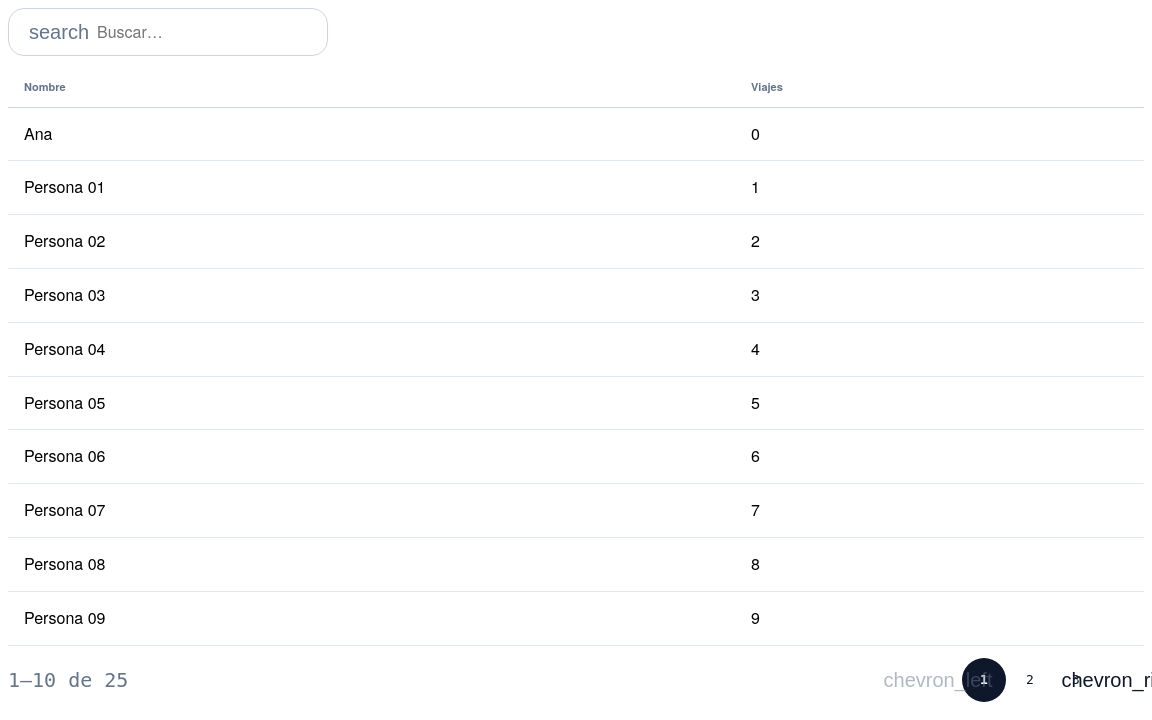
Test: DataTable · conformance canon › dtb-2: ordenar descendente trae la última fila del conjunto, no de la página
Click the button "Viajes" at (767, 88), box [751,80,783,95]
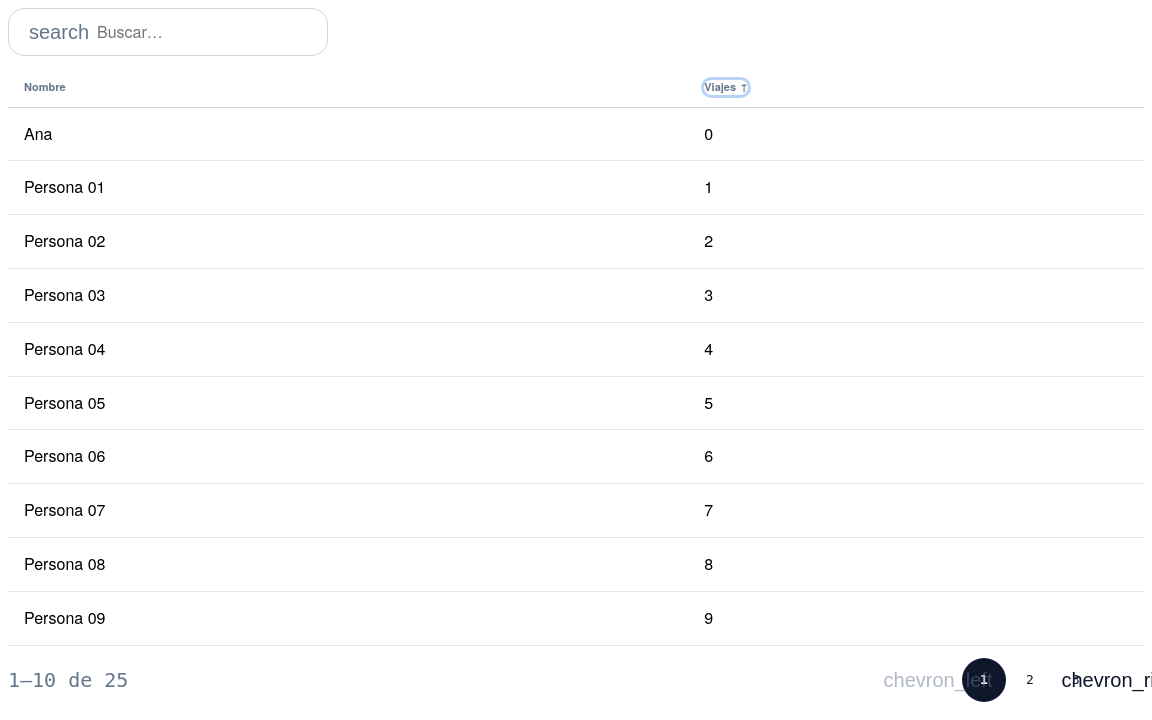
Click the button "Viajes ↑" at (726, 88), box [704,80,748,95]
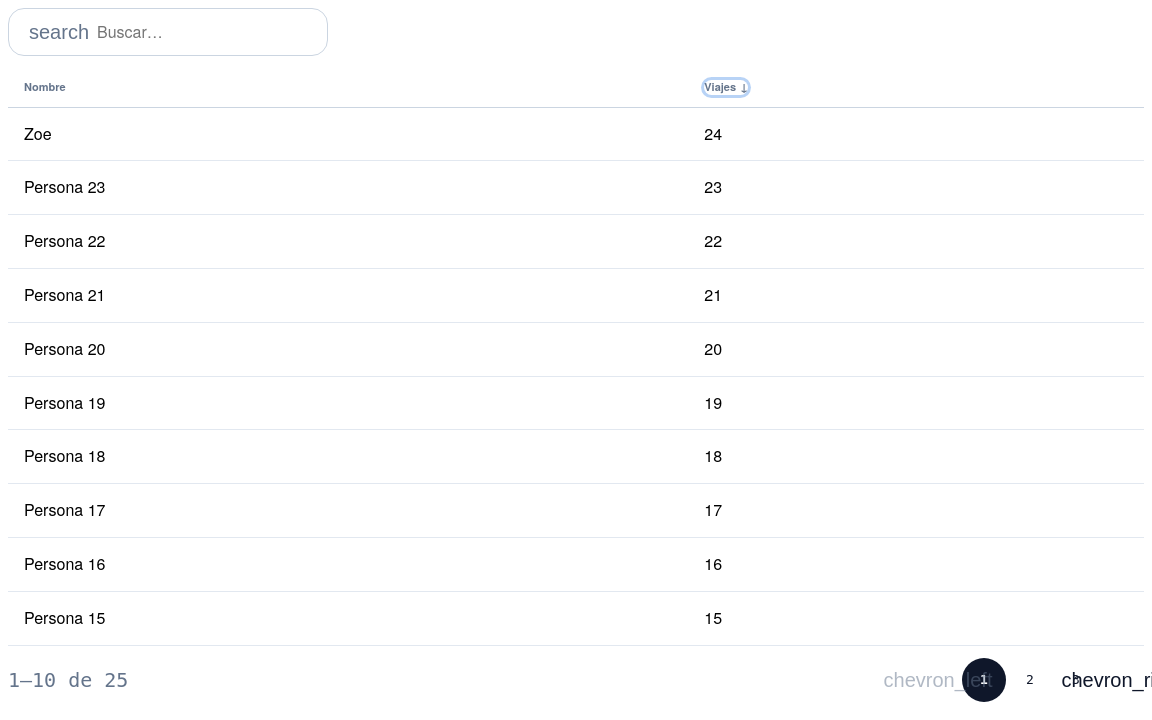
Expected: the text "Zoe" is shown, [8,108,688,161]
Expected: the text "Ana" is gone
